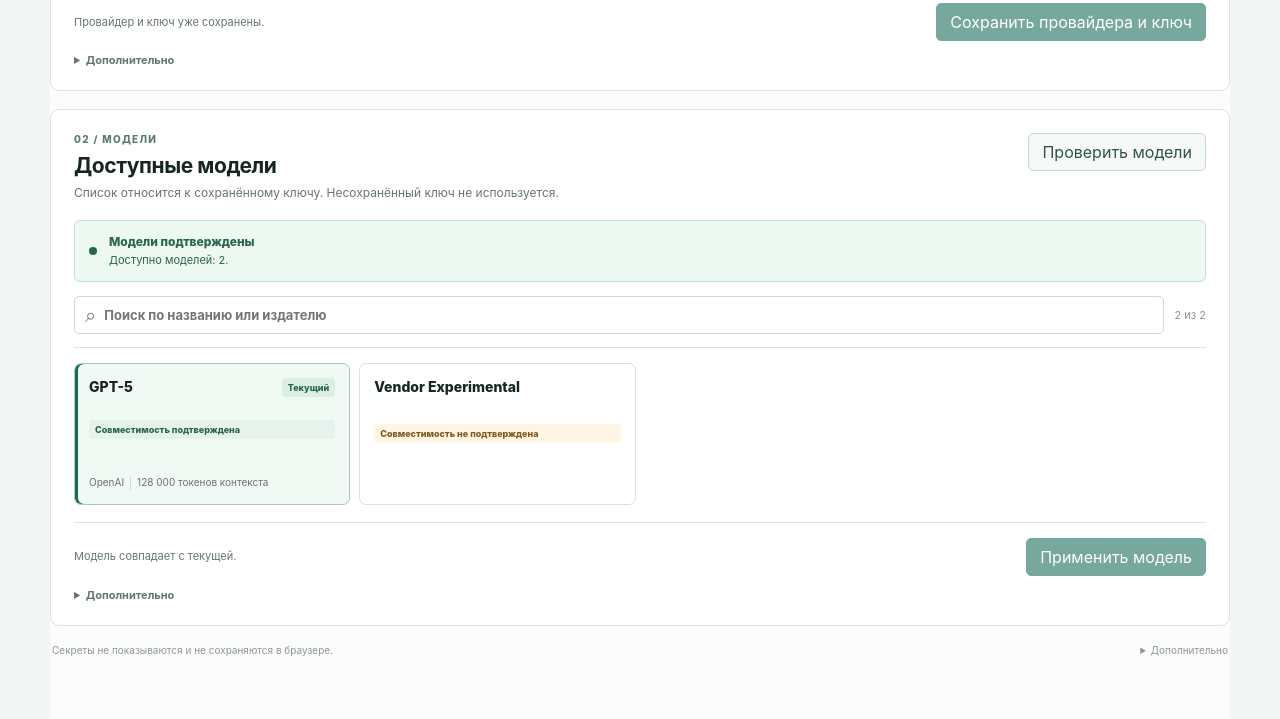
Test: AI provider/key/model picker acceptance surface › blocks an unmatched model until the user explicitly acknowledges the warning
This screenshot has width=1280, height=719.
Later steps or results of the test are not shown.
(page scrolled)
Click the button with aria-label "Выбрать модель «Vendor Experimental»" at (497, 434), box [359,363,636,505]
(page scrolled)
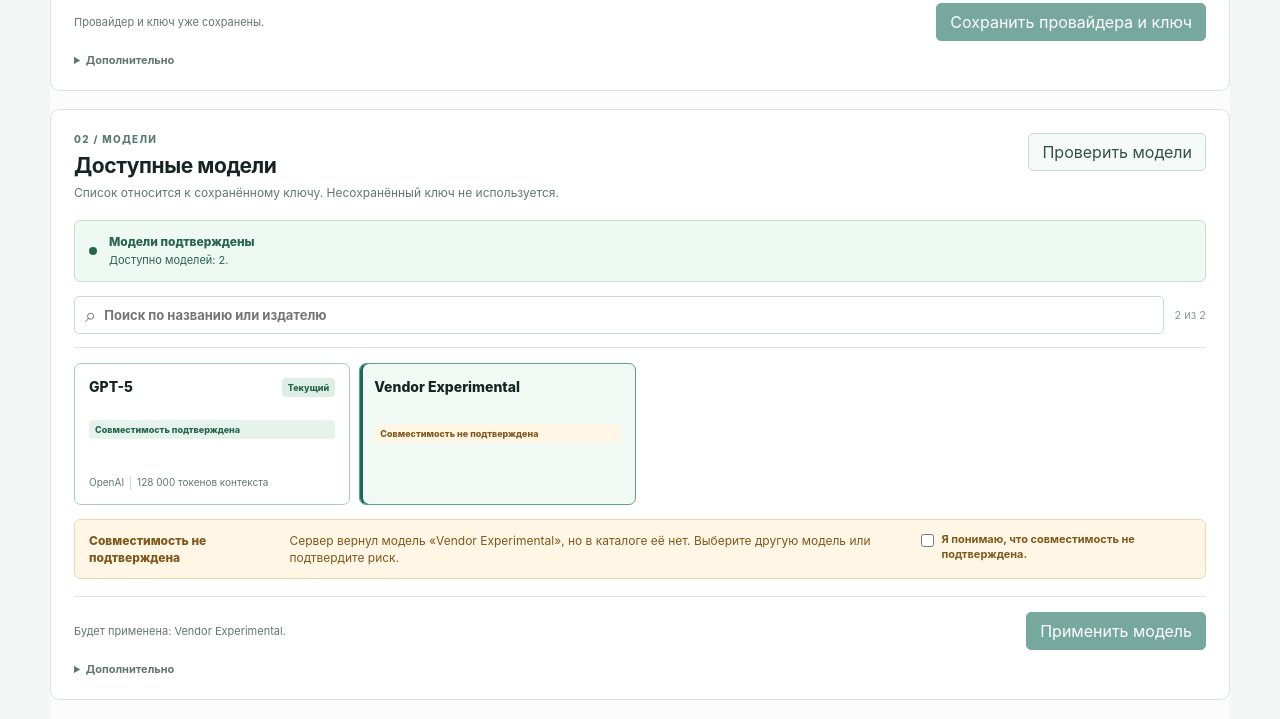
Check: the text "Совместимость не подтверждена" is shown, box [374,424,621,443]
Check: the checkbox labelled "Я понимаю, что совместимость не подтверждена." is not checked
Click the checkbox labelled "Я понимаю, что совместимость не подтверждена." at (928, 540), box [921,534,934,547]
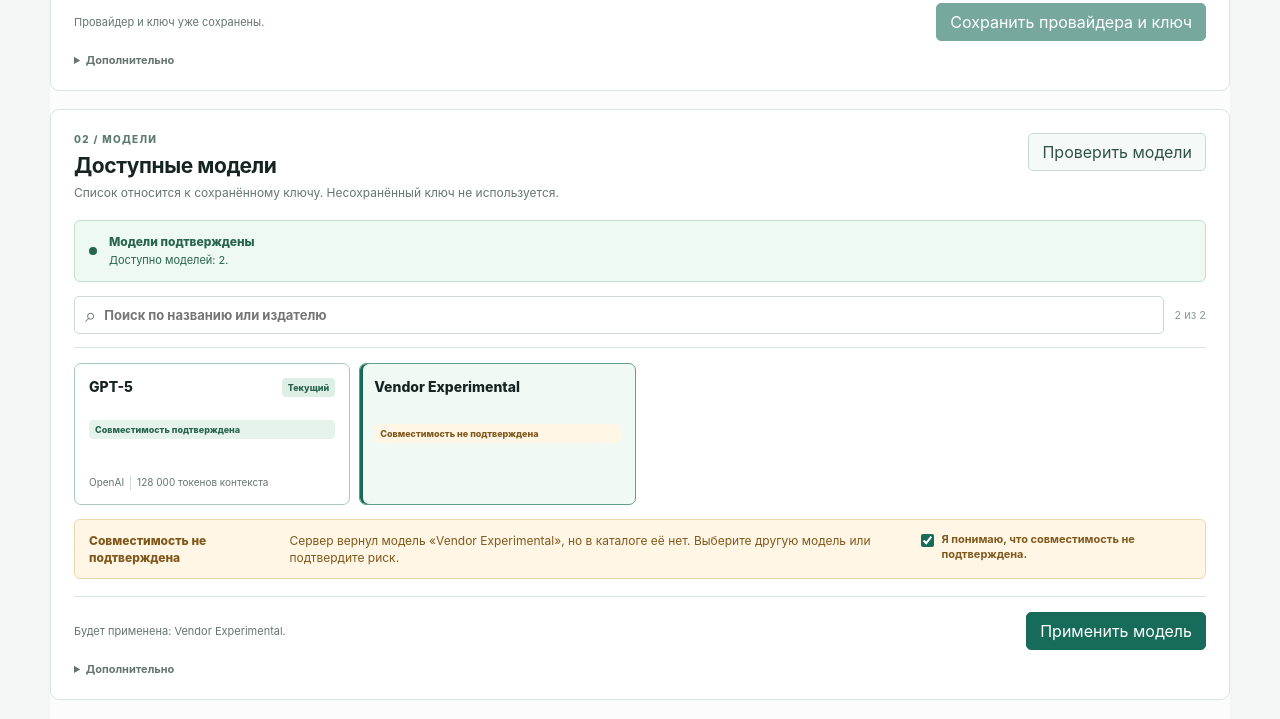
Check: the checkbox labelled "Я понимаю, что совместимость не подтверждена." is checked, box [921,534,934,547]
Check: the button "Применить модель" is enabled, box [1026,612,1206,650]
